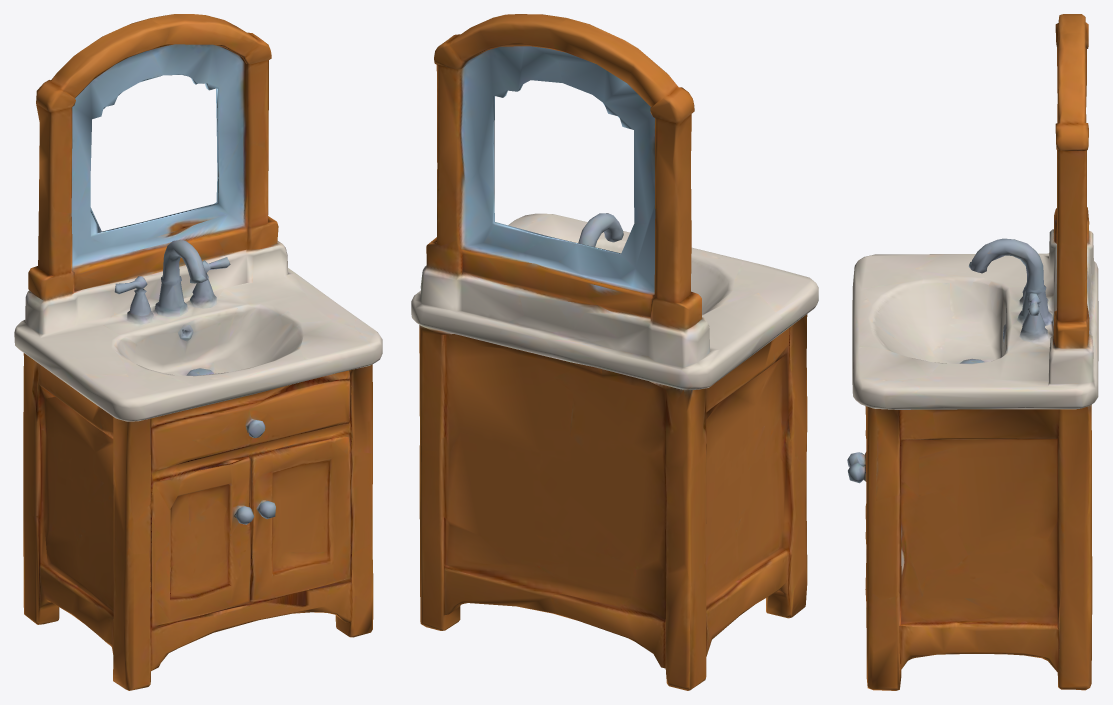
Rendered from sink.glb.
The picture shows the model from 3 angles, left to right: view 1: azimuth 30°, elevation 25°; view 2: azimuth 150°, elevation 25°; view 3: azimuth 270°, elevation 25°; orthographic projection. The views are drawn at different scales.
Parts seen in each view (by area): view 1: sink-node; view 2: sink-node; view 3: sink-node.
Boxes of the visible parts, x1,y1,x2,y2 form: sink-node: (14,14,382,690); sink-node: (411,14,818,690); sink-node: (847,14,1098,690).
Bounding box in the file's own units: 0.4985 × 1 × 0.3816.
Materials: 1 (1 with a texture image).
